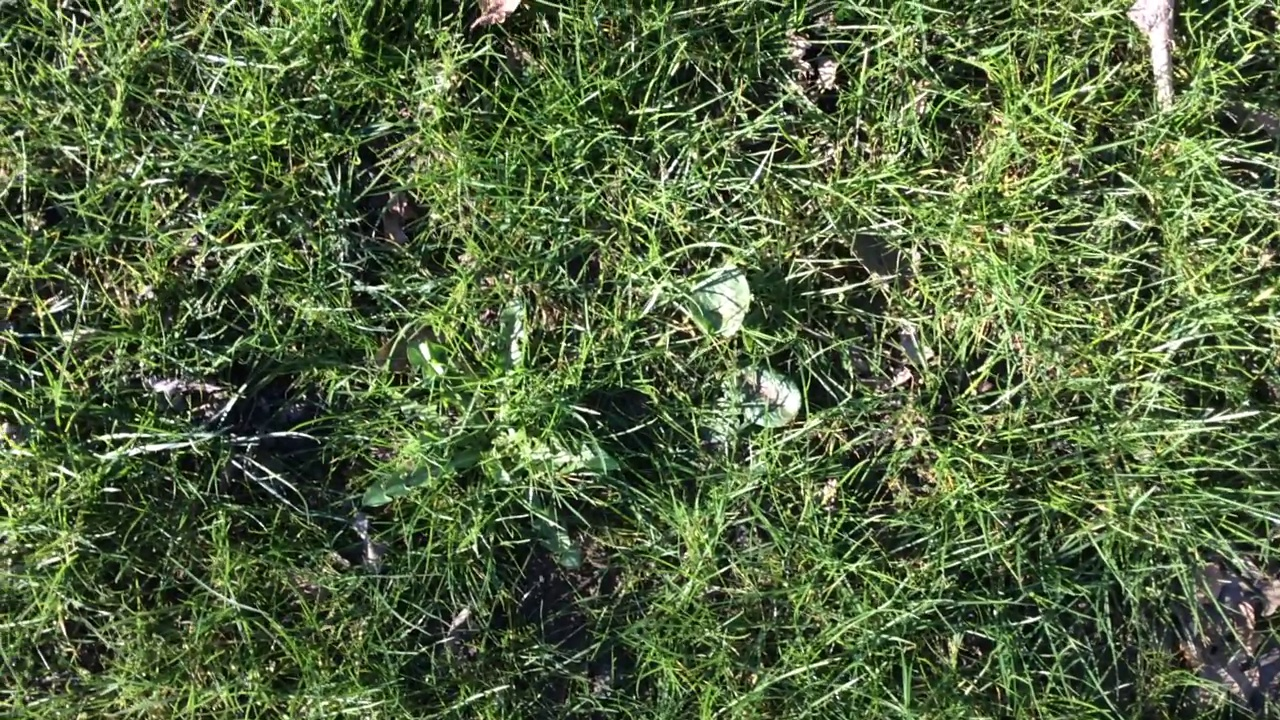rumex: (692, 267, 752, 338), (732, 370, 801, 428)
